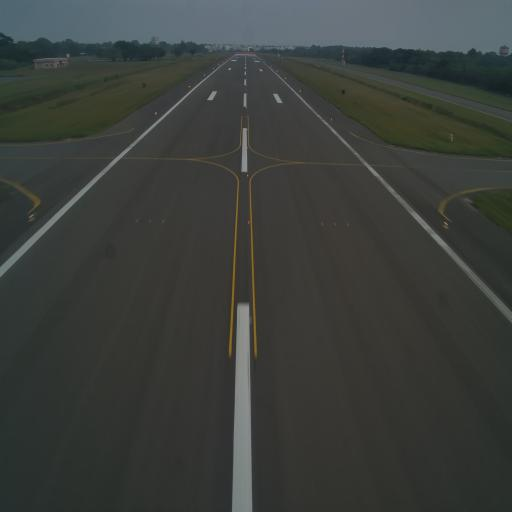off: (319, 220, 326, 232), (133, 216, 141, 226), (146, 216, 152, 228), (332, 219, 338, 230), (160, 217, 166, 227), (344, 220, 350, 229), (194, 142, 198, 150), (289, 146, 294, 152), (180, 142, 184, 149), (187, 143, 191, 150), (304, 146, 308, 153), (297, 146, 300, 153)
on: (26, 210, 37, 226), (441, 215, 450, 232), (248, 312, 254, 328), (246, 217, 252, 227), (244, 172, 250, 181), (153, 109, 158, 116), (245, 125, 249, 133), (330, 116, 334, 122), (246, 144, 248, 150)
